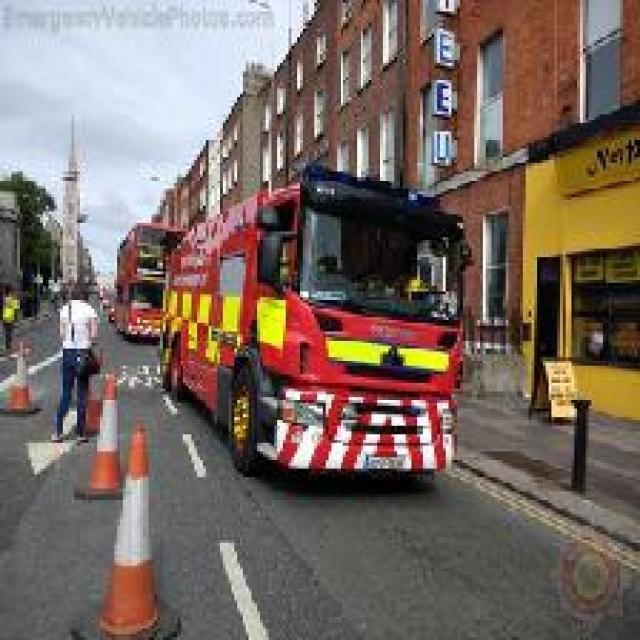emergency: (154, 164, 473, 488)
